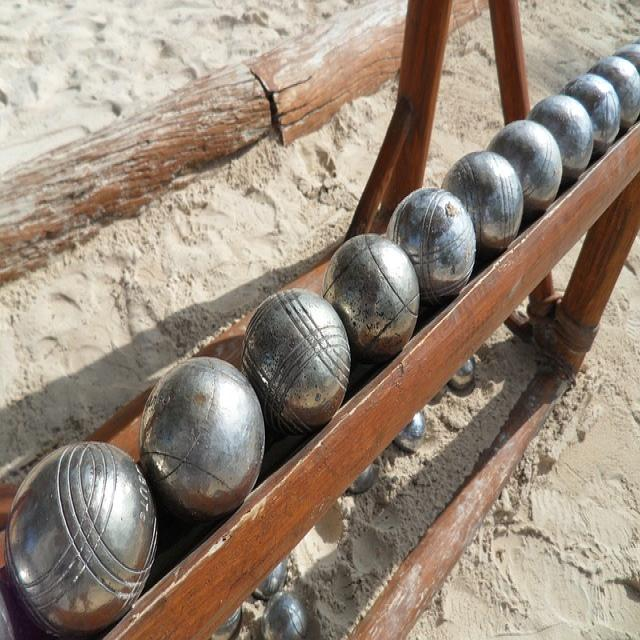petanque: (5, 441, 156, 639), (134, 355, 264, 523), (236, 280, 355, 438), (312, 225, 423, 366), (383, 185, 481, 302), (438, 146, 526, 259), (484, 116, 567, 218), (528, 90, 593, 187), (556, 72, 624, 159), (581, 54, 639, 135), (255, 594, 314, 639), (386, 408, 429, 452), (252, 554, 292, 595), (445, 354, 484, 394), (346, 460, 382, 502), (610, 41, 639, 89), (206, 607, 246, 639)
